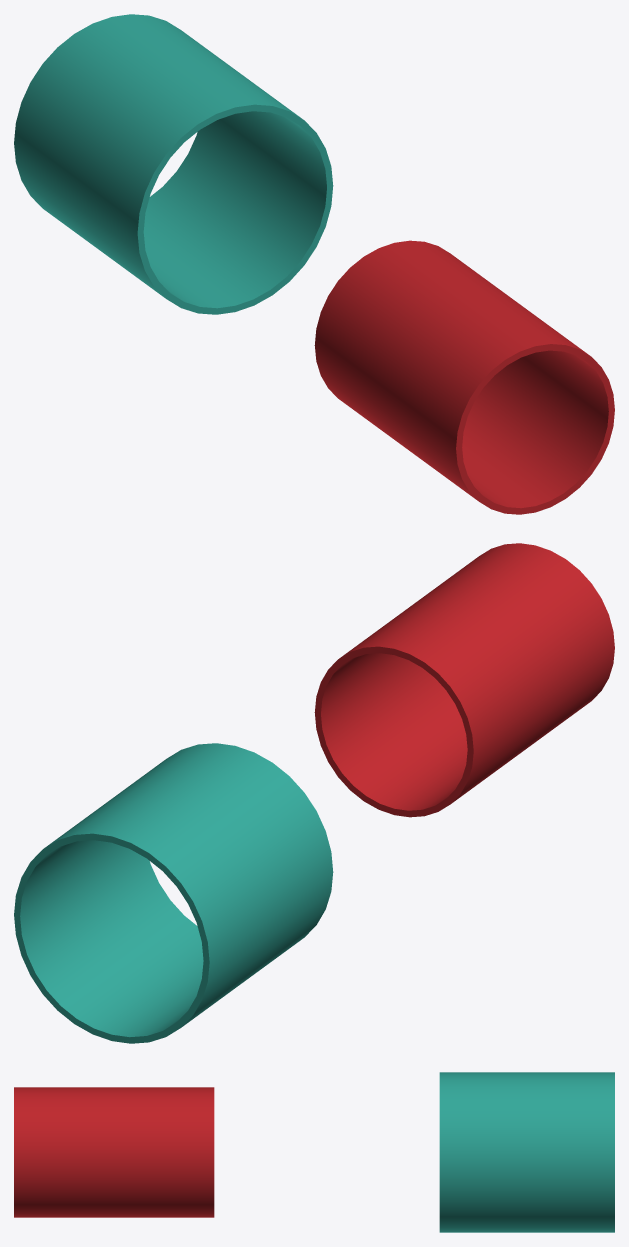
The model's file is emergency_diesel_firewater_system_pressure.glb.
3 views of the same model, one above another, from view 1: azimuth 30°, elevation 25°; view 2: azimuth 150°, elevation 25°; view 3: azimuth 270°, elevation 25° (orthographic). The views are drawn at different scales.
Visible parts, largest first — view 1: pressure__back, pressure__front; view 2: pressure__back, pressure__front; view 3: pressure__back, pressure__front.
Part boxes in pixels (x1,y1,x2,y2): pressure__back: (14,14,333,314); pressure__front: (314,240,614,514); pressure__back: (14,743,333,1043); pressure__front: (314,543,614,817); pressure__back: (439,1072,614,1232); pressure__front: (14,1087,214,1217).
Bounding box in the file's own units: 0.32 × 0.32 × 1.2.
